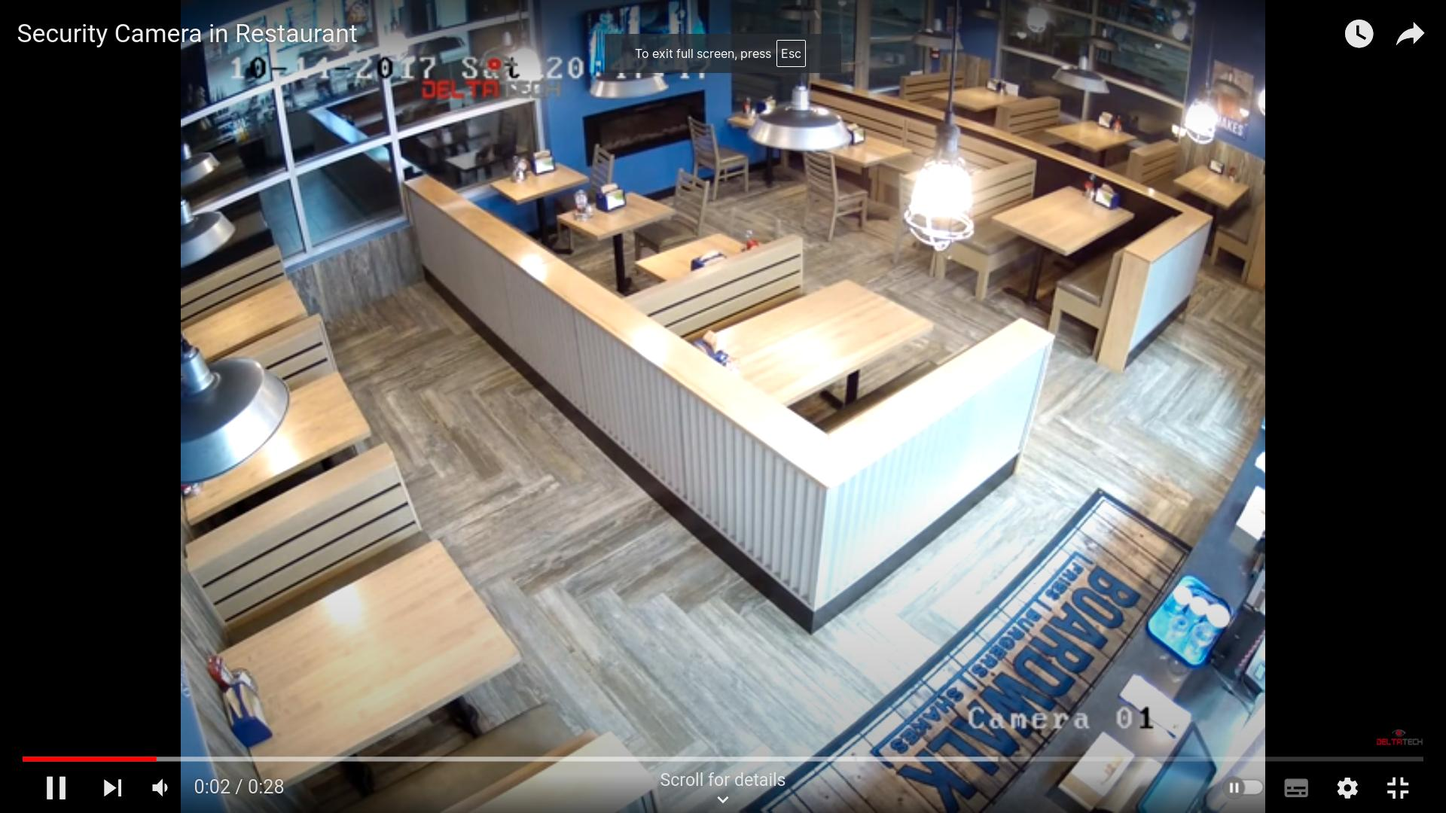Clean Table: (172, 534, 639, 758), (644, 261, 972, 422), (978, 147, 1123, 304)
